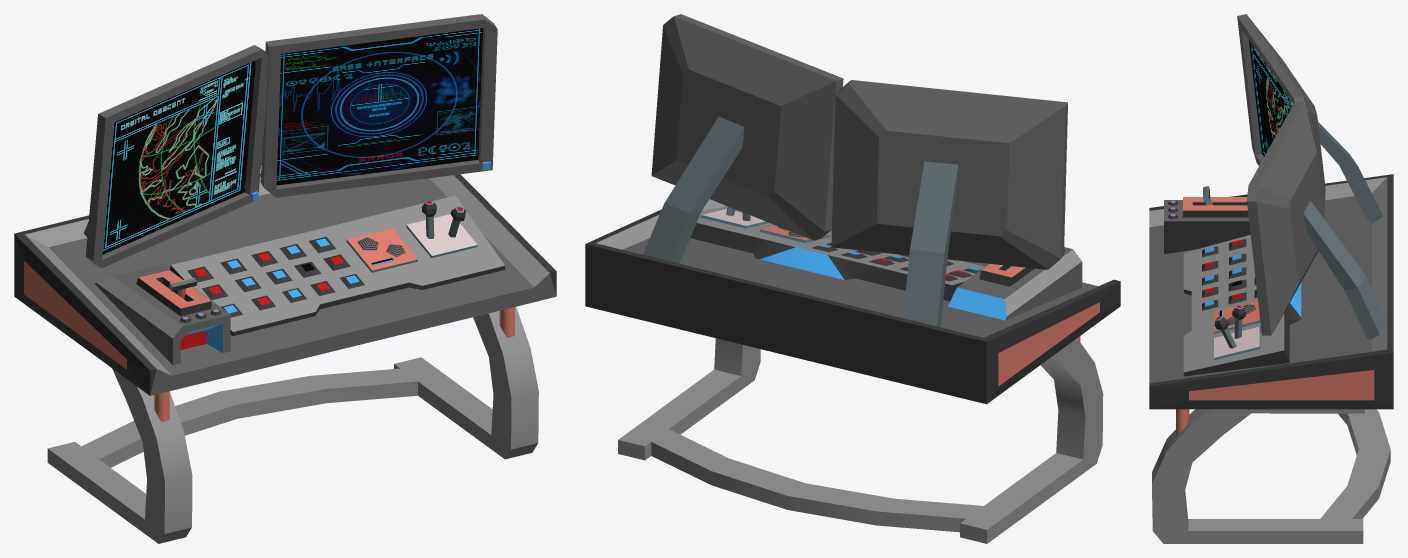
The model's file is Control_Table_2_SciFi.fbx.
3 views of the same model, side by side, from view 1: azimuth 30°, elevation 25°; view 2: azimuth 150°, elevation 25°; view 3: azimuth 270°, elevation 25° (orthographic). The views are drawn at different scales.
Parts seen in each view (by area): view 1: Control_Table_2_SciFi; view 2: Control_Table_2_SciFi; view 3: Control_Table_2_SciFi.
Boxes of the visible parts, <box> form: Control_Table_2_SciFi: <box>14,14,556,543</box>; Control_Table_2_SciFi: <box>585,14,1120,543</box>; Control_Table_2_SciFi: <box>1149,14,1393,543</box>.
Size of the model in its own units: 202 by 188 by 116.
